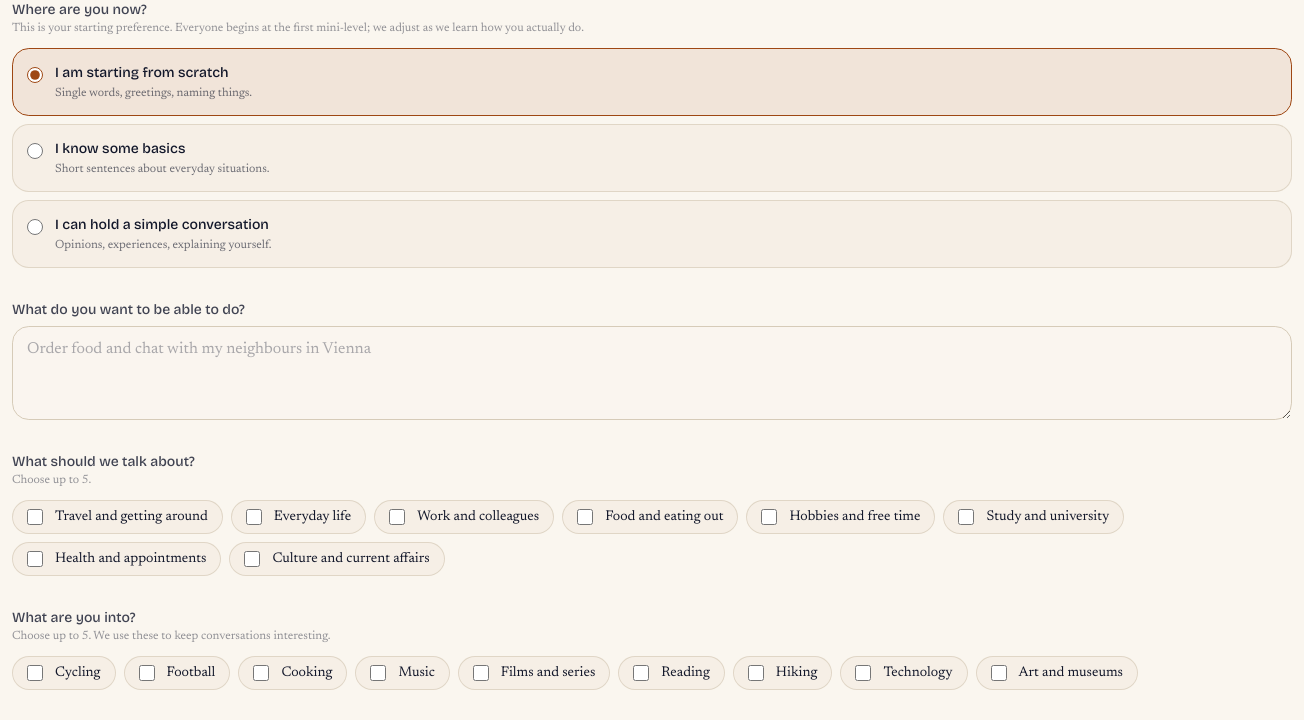
Test: when the server refuses › keeps the correction preference they chose
Type "Order coffee in Vienna" into the text box labelled "What do you want to be able to do?" at point(652, 373), box [12,326,1292,420]
(page scrolled)
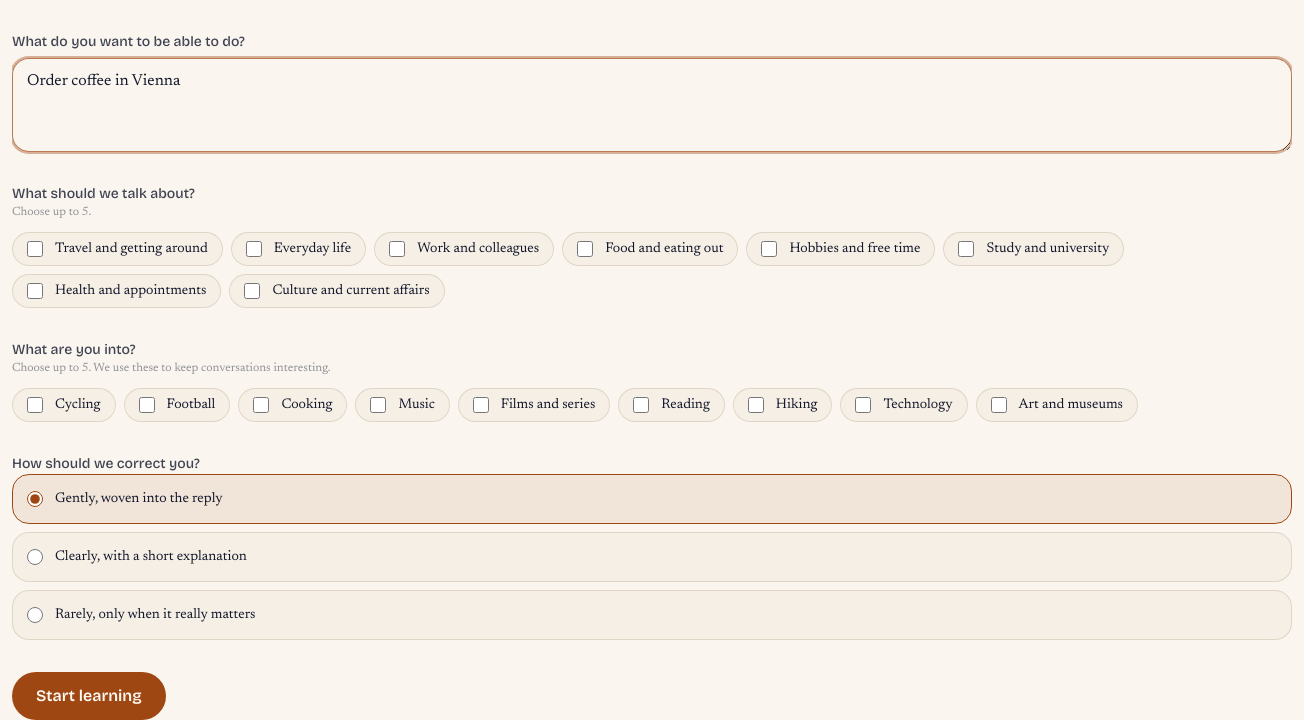
Click the radio button labelled "Clearly, with a short explanation" at point(35, 557), box [27,549,43,565]
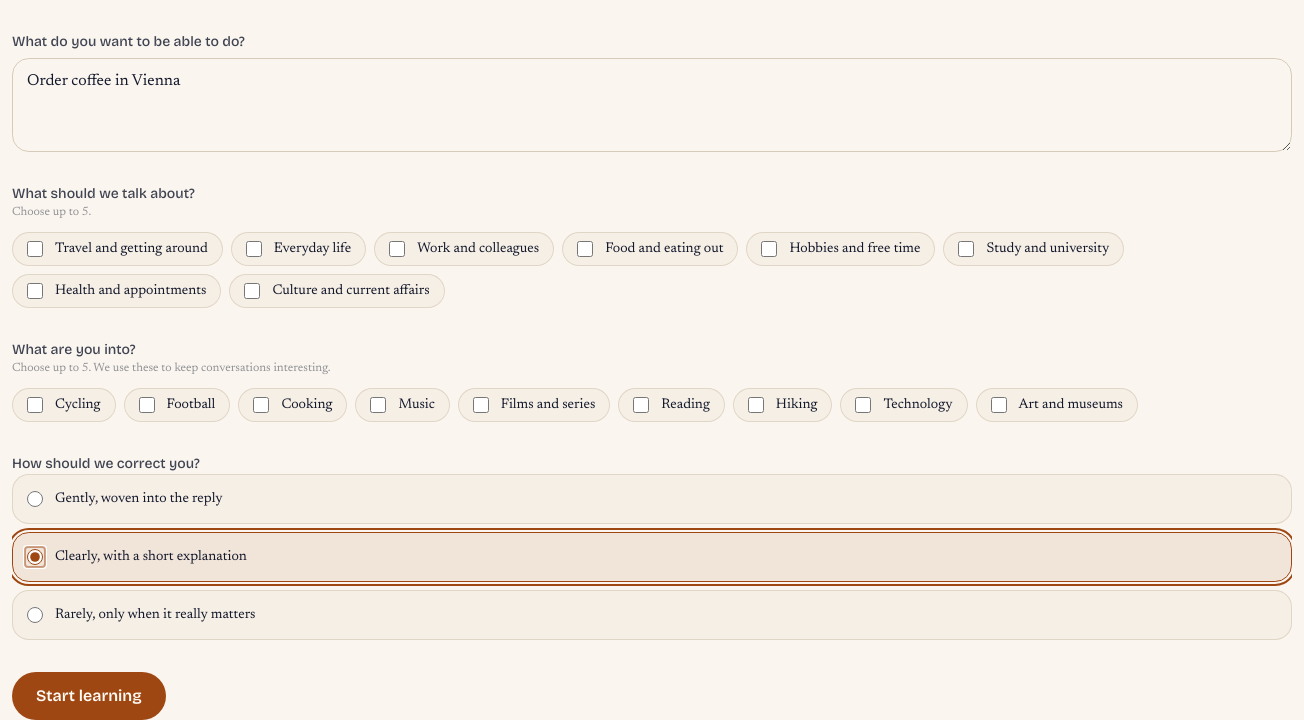
Click the button "Start learning" at point(89, 696), box [12,672,166,719]
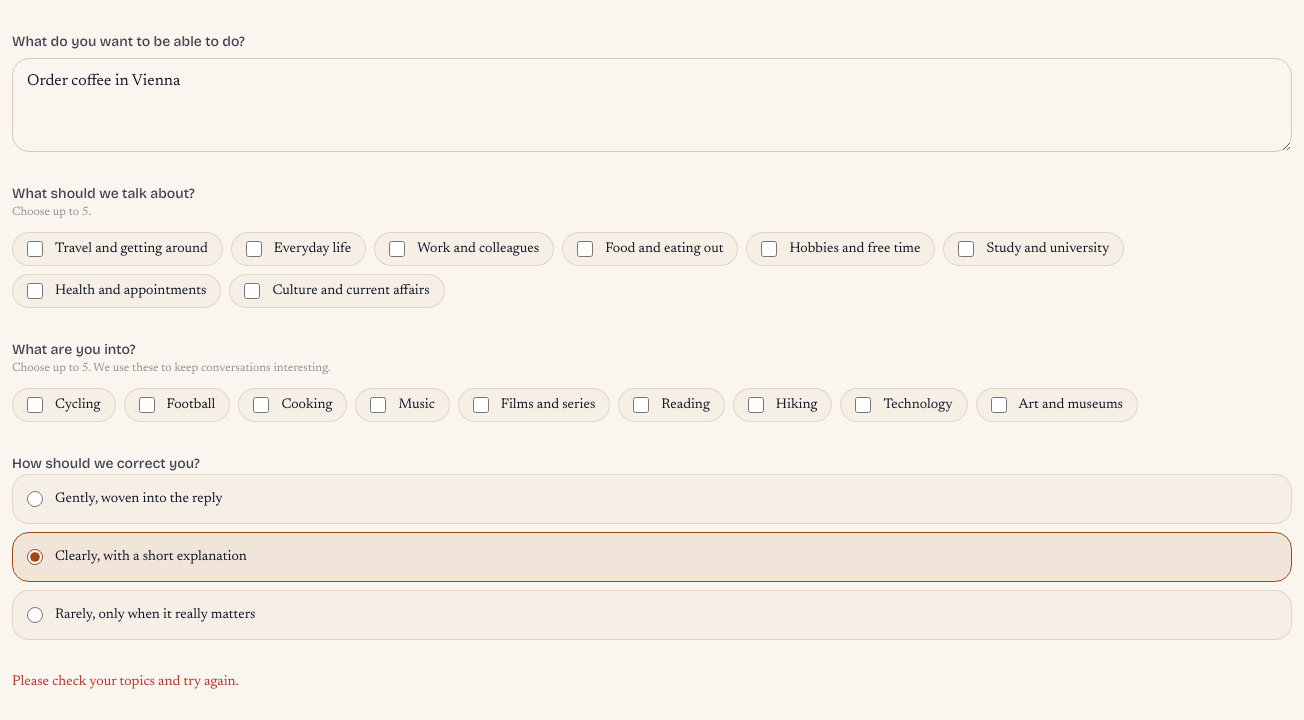
Now the radio button labelled "Clearly, with a short explanation" is checked, box [27,549,43,565]
Now the message shows "check your topics", box [12,675,239,689]
